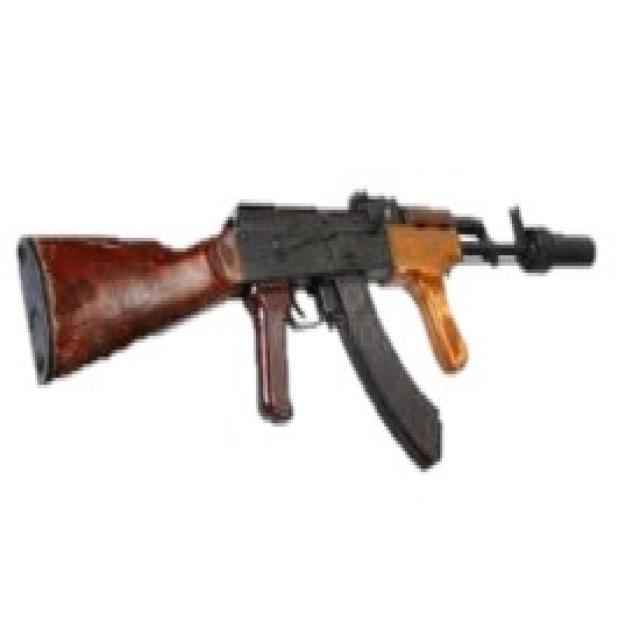rifle: (14, 175, 602, 476)
